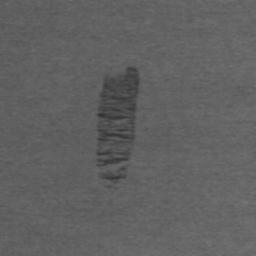Secondary rust skin: (96, 66, 140, 167), (100, 166, 127, 188)
